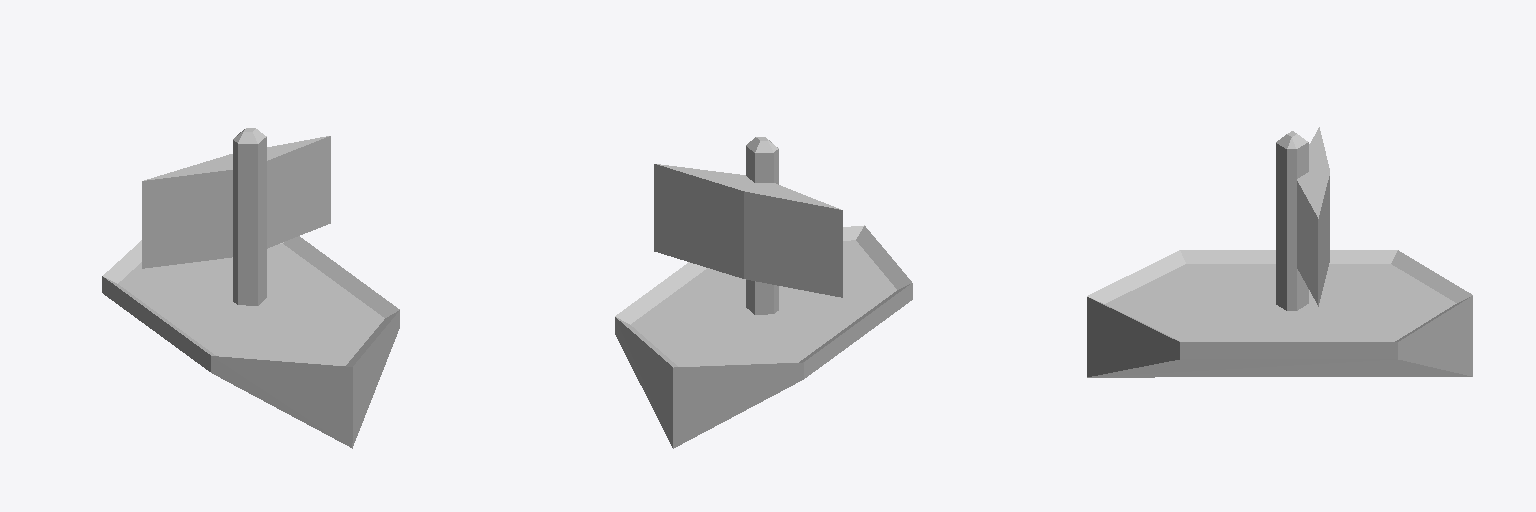
The model's file is Ship.obj.
3 renders of one model, left to right at view 1: azimuth 30°, elevation 25°; view 2: azimuth 150°, elevation 25°; view 3: azimuth 270°, elevation 25°, orthographic.
Visible parts, largest first — view 1: Cube; view 2: Cube; view 3: Cube.
Boxes of the visible parts, x1,y1,x2,y2 form: Cube: [102, 128, 399, 448]; Cube: [615, 137, 912, 448]; Cube: [1087, 127, 1472, 377].
Size of the model in its own units: 2 by 2.47 by 3.55.